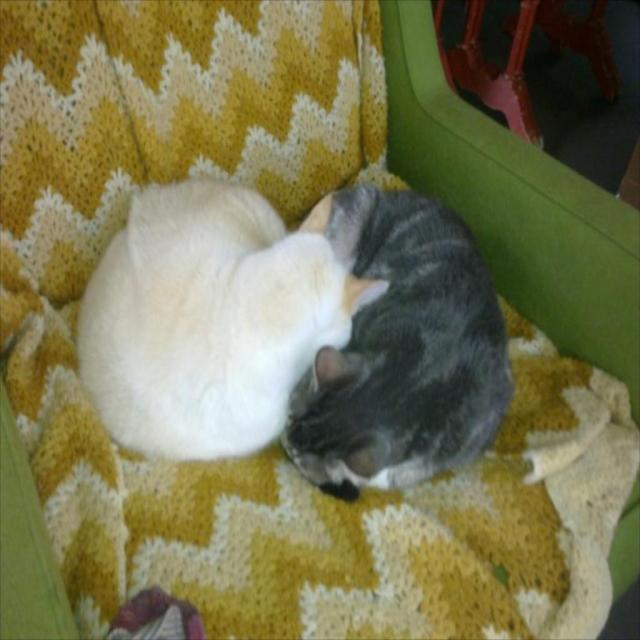Cat: (71, 171, 356, 463), (274, 181, 518, 511)
